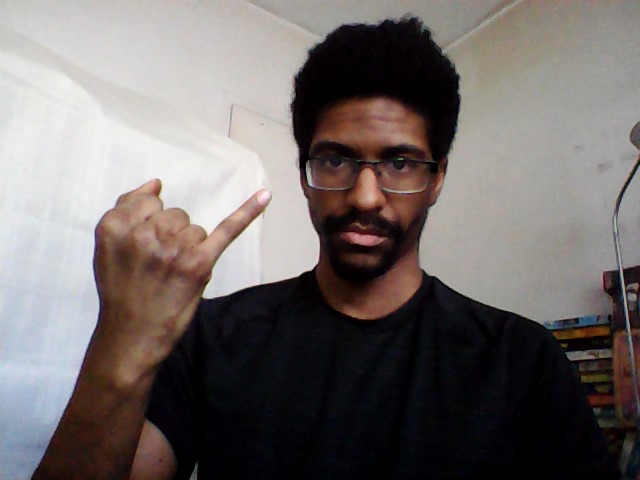j: (87, 172, 278, 352)
